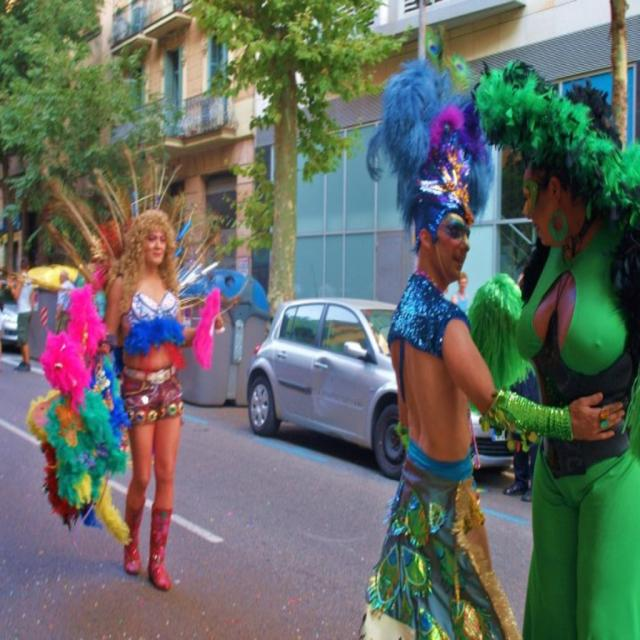car: (261, 295, 404, 468)
